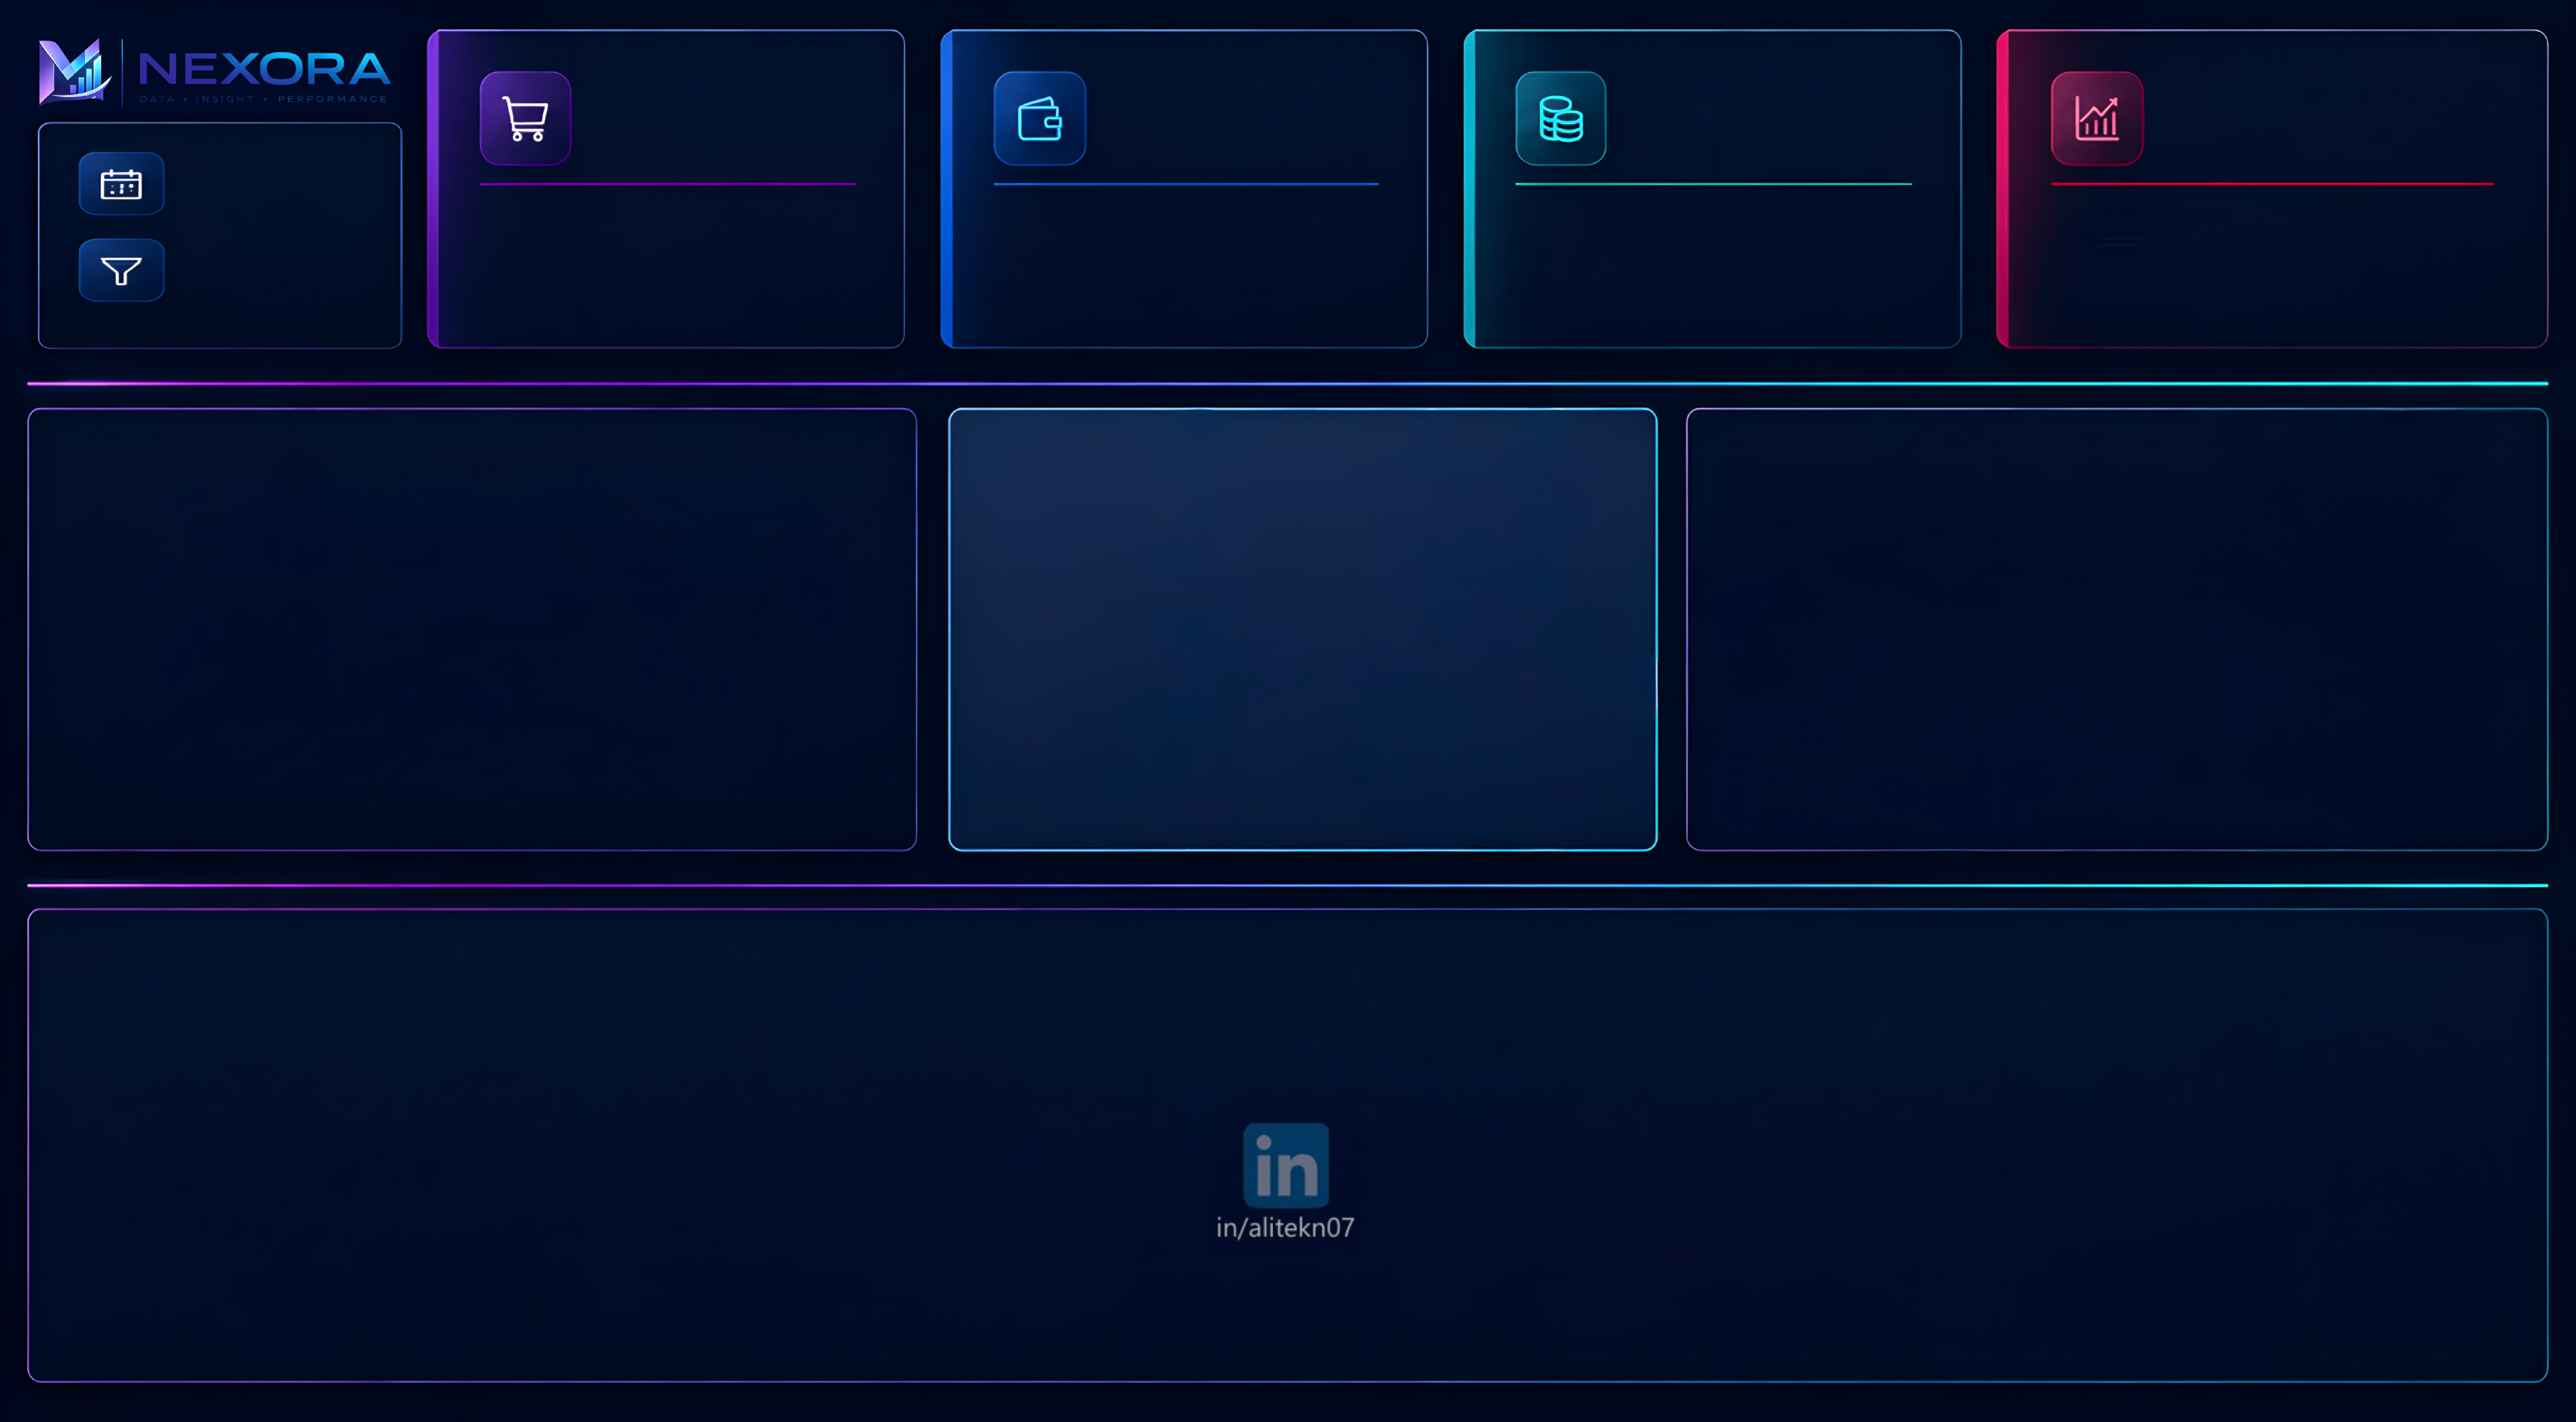

This screenshot's page, from the dashboard's own definition file:
{"tool":"powerbi","page":{"name":"1. sayfa","canvas":[1280,720],"ordinal":0},"visuals":[{"type":"slicer","fields":{"Values":["tarih_tablosu.Date.Varyasyon.Tarih Hiyerarşisi.Yıl"]},"box":[84.4,76.6,111.2,34.7],"z":0},{"type":"slicer","fields":{"Values":["urunler.marka"]},"box":[84.4,121.1,111.2,34.7],"z":1000},{"type":"cardVisual","fields":{"Data":["olculer.toplam_satis_adedi"]},"box":[306.5,20.5,103.7,80.6],"z":2000},{"type":"cardVisual","fields":{"Data":["olculer.toplam_satis_tutar"]},"box":[794.6,27.7,178.3,66],"z":3000},{"type":"cardVisual","fields":{"Data":["olculer.toplam_maliyet"]},"box":[533.7,20.5,178.3,80.6],"z":4000},{"type":"cardVisual","fields":{"Data":["olculer.kar/zarar"]},"box":[1064,20.5,179,80.6],"z":5000},{"type":"lineChart","fields":{"Category":["tarih_tablosu.Date.Varyasyon.Tarih Hiyerarşisi.Ay"],"Y":["olculer.veri_toplam_satis_adedi"]},"box":[205.8,93.8,255.5,77],"z":6000},{"type":"lineChart","fields":{"Category":["tarih_tablosu.Date.Varyasyon.Tarih Hiyerarşisi.Ay"],"Y":["olculer.veri_toplam_maliyet"]},"box":[461.4,93.6,259.3,76.8],"z":7000},{"type":"lineChart","fields":{"Category":["tarih_tablosu.Date.Varyasyon.Tarih Hiyerarşisi.Ay"],"Y":["olculer.veri_toplam_satis_tutar"]},"box":[720.7,93.6,265.7,76.8],"z":8000},{"type":"lineChart","fields":{"Category":["tarih_tablosu.Date.Varyasyon.Tarih Hiyerarşisi.Ay"],"Y":["olculer.veri_kar_zarar"]},"box":[985,93.6,293.6,76.8],"z":9000},{"type":"columnChart","fields":{"Category":["tarih_tablosu.Date.Varyasyon.Tarih Hiyerarşisi.Ay"],"Y":["olculer.veri_toplam_satis_adedi"]},"box":[17.3,207.3,436.7,228],"z":10000},{"type":"treemap","fields":{"Group":["urunler.marka"],"Values":["olculer.veri_toplam_satis_tutar"]},"box":[472,207.2,352.4,222.4],"z":11000},{"type":"tableEx","fields":{"Values":["urunler.marka","urunler.logo","olculer.veri_toplam_satis_adedi","olculer.veri_toplam_satis_tutar","olculer.veri_toplam_maliyet"]},"box":[835,206.9,432.5,222.5],"z":12000},{"type":"advancedSlicerVisual","fields":{"Values":["yoneticiler.yonetici"]},"box":[17.3,460,1250.7,50],"z":13000},{"type":"shapeMap","fields":{"Category":["bolgeler.Merkez"],"Value":["olculer.veri_toplam_satis_adedi"]},"box":[17.3,514.9,516.1,172.9],"z":14000},{"type":"tableEx","fields":{"Values":["saticilar.satici","saticilar.foto","urunler.marka","urunler.logo","olculer.veri_toplam_satis_adedi","olculer.veri_toplam_satis_tutar","olculer.veri_toplam_maliyet"]},"box":[754.4,515,506.2,172.5],"z":15000}]}

Visuals, with their boxes in screenshot pixels (x1, y1, x2, y2), scaled from the page's 1280x720 canvas onto the 2576x1422 screenshot:
slicer - tarih_tablosu.Date.Varyasyon.Tarih Hiyerarşisi.Yıl: crop(170, 151, 393, 220)
slicer - urunler.marka: crop(170, 239, 393, 308)
cardVisual - olculer.toplam_satis_adedi: crop(617, 40, 825, 200)
cardVisual - olculer.toplam_satis_tutar: crop(1599, 54, 1958, 185)
cardVisual - olculer.toplam_maliyet: crop(1074, 40, 1433, 200)
cardVisual - olculer.kar/zarar: crop(2142, 40, 2502, 200)
lineChart - tarih_tablosu.Date.Varyasyon.Tarih Hiyerarşisi.Ay x olculer.veri_toplam_satis_adedi: crop(414, 185, 929, 337)
lineChart - tarih_tablosu.Date.Varyasyon.Tarih Hiyerarşisi.Ay x olculer.veri_toplam_maliyet: crop(929, 185, 1450, 337)
lineChart - tarih_tablosu.Date.Varyasyon.Tarih Hiyerarşisi.Ay x olculer.veri_toplam_satis_tutar: crop(1450, 185, 1985, 337)
lineChart - tarih_tablosu.Date.Varyasyon.Tarih Hiyerarşisi.Ay x olculer.veri_kar_zarar: crop(1982, 185, 2573, 337)
columnChart - tarih_tablosu.Date.Varyasyon.Tarih Hiyerarşisi.Ay x olculer.veri_toplam_satis_adedi: crop(35, 409, 914, 860)
treemap - urunler.marka x olculer.veri_toplam_satis_tutar: crop(950, 409, 1659, 848)
tableEx - urunler.marka x urunler.logo: crop(1680, 409, 2551, 848)
advancedSlicerVisual - yoneticiler.yonetici: crop(35, 909, 2552, 1008)
shapeMap - bolgeler.Merkez x olculer.veri_toplam_satis_adedi: crop(35, 1017, 1074, 1358)
tableEx - saticilar.satici x saticilar.foto: crop(1518, 1017, 2537, 1358)
